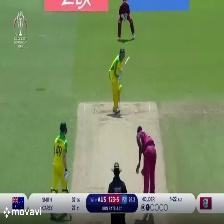batsman: (108, 46, 131, 119)
